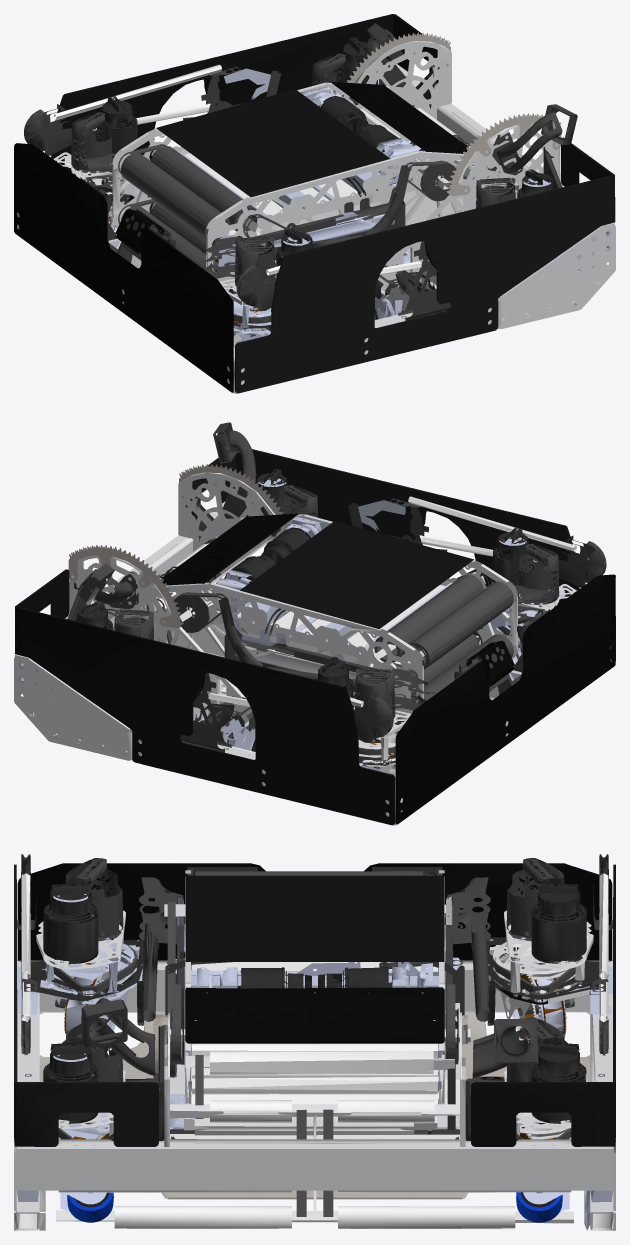
3 views of the same model, one above another, from view 1: azimuth 30°, elevation 25°; view 2: azimuth 150°, elevation 25°; view 3: azimuth 270°, elevation 25° (orthographic). The views are drawn at different scales.
Visible parts, largest first — view 1: body.mat_51, body.mat_12, body.mat_2, body.mat_14, pivot.mat_18, body.mat_18, pivot.mat_14, pivot.mat_17, pivot.mat_12, body.mat_22, body.mat_15, pivot.mat_0 (+10 smaller); view 2: body.mat_18, body.mat_12, body.mat_2, body.mat_14, pivot.mat_18, body.mat_51, pivot.mat_14, pivot.mat_17, pivot.mat_12, body.mat_22, pivot.mat_0, body.mat_23 (+11 smaller); view 3: body.mat_14, body.mat_2, pivot.mat_18, body.mat_0, pivot.mat_0, pivot.mat_12, body.mat_12, body.mat_51, body.mat_18, body.mat_21, body.mat_23, body.mat_15 (+13 smaller).
Boxes of the visible parts, bbox=[...] form: body.mat_51: bbox=[235, 137, 615, 393]; body.mat_12: bbox=[14, 143, 233, 392]; body.mat_2: bbox=[24, 23, 577, 336]; body.mat_14: bbox=[17, 41, 615, 392]; pivot.mat_18: bbox=[156, 89, 390, 197]; body.mat_18: bbox=[51, 14, 438, 171]; pivot.mat_14: bbox=[112, 82, 521, 289]; pivot.mat_17: bbox=[118, 90, 473, 278]; pivot.mat_12: bbox=[332, 81, 468, 153]; body.mat_22: bbox=[104, 32, 561, 393]; body.mat_15: bbox=[109, 68, 597, 342]; pivot.mat_0: bbox=[181, 107, 484, 235]; body.mat_18: bbox=[15, 569, 395, 824]; body.mat_12: bbox=[395, 574, 615, 824]; body.mat_2: bbox=[78, 422, 606, 768]; body.mat_14: bbox=[14, 472, 611, 824]; pivot.mat_18: bbox=[240, 521, 473, 629]; body.mat_51: bbox=[191, 449, 615, 660]; pivot.mat_14: bbox=[108, 514, 517, 721]; pivot.mat_17: bbox=[147, 538, 513, 721]; pivot.mat_12: bbox=[160, 513, 297, 585]; body.mat_22: bbox=[68, 464, 521, 825]; pivot.mat_0: bbox=[145, 538, 448, 667]; body.mat_23: bbox=[75, 469, 528, 690]; body.mat_14: bbox=[14, 910, 615, 1230]; body.mat_2: bbox=[17, 854, 612, 1134]; pivot.mat_18: bbox=[185, 875, 444, 961]; body.mat_0: bbox=[21, 873, 608, 1229]; pivot.mat_0: bbox=[191, 962, 438, 1104]; pivot.mat_12: bbox=[185, 987, 444, 1043]; body.mat_12: bbox=[17, 863, 612, 1078]; body.mat_51: bbox=[14, 864, 158, 1146]; body.mat_18: bbox=[471, 864, 615, 1146]; body.mat_21: bbox=[43, 894, 599, 1136]; body.mat_23: bbox=[43, 882, 586, 1081]; body.mat_15: bbox=[17, 894, 612, 1230].
Size of the model in its own units: 0.6532 by 0.3042 by 0.6561.
